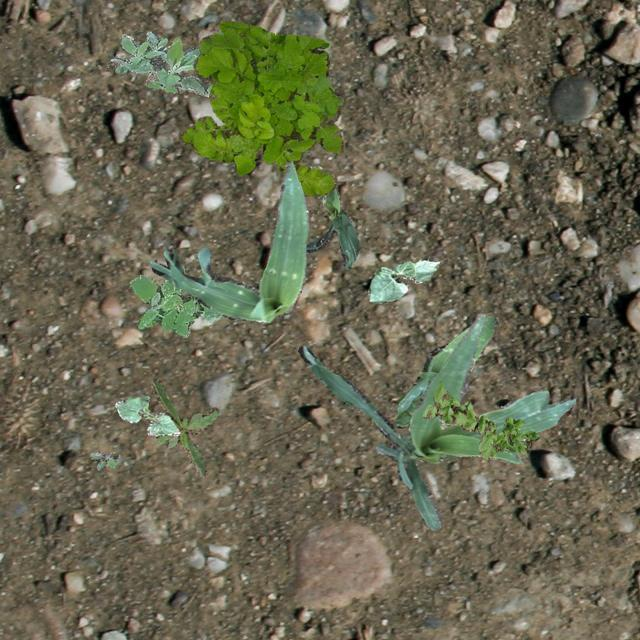crop: (296, 312, 576, 530), (150, 160, 308, 322), (396, 314, 496, 426), (304, 186, 358, 268), (366, 258, 438, 302), (114, 396, 178, 436)
weed: (178, 21, 344, 194), (422, 381, 538, 458), (148, 378, 218, 477), (110, 30, 212, 96), (128, 274, 222, 336), (88, 451, 118, 468)
